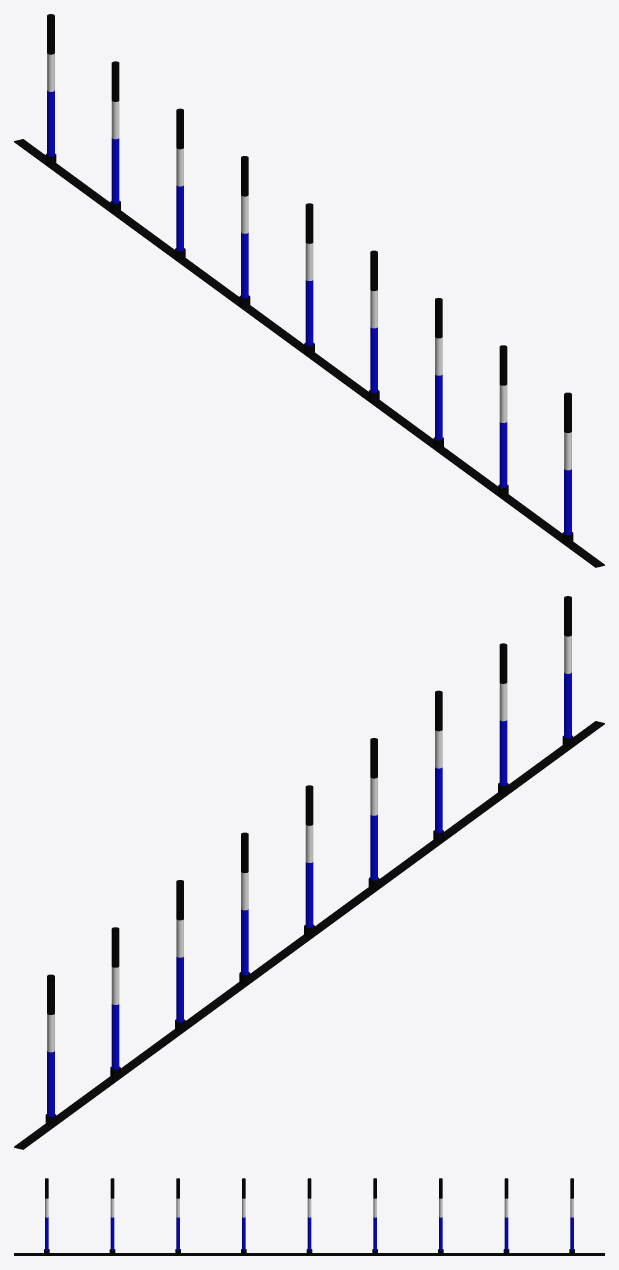
File: Pole-2.dae
3 views of the same model, one above another, from view 1: azimuth 30°, elevation 25°; view 2: azimuth 150°, elevation 25°; view 3: azimuth 270°, elevation 25° (orthographic). The views are drawn at different scales.
Parts seen in each view (by area): view 1: no part large enough to name; view 2: no part large enough to name; view 3: pole (×9), base (×9).
Boxes of the visible parts, x1,y1,x2,y2 form: pole (×9): (14,1253,604,1255); base (×9): (45,1217,573,1250).
Bounding box in the file's own units: 1.97 × 213 × 30.04.
